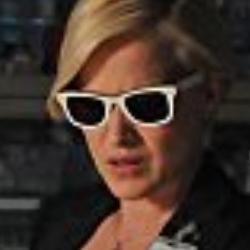face: (40, 1, 235, 205)
